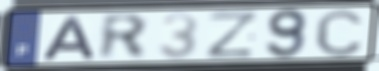3: (156, 10, 201, 62)
9: (263, 7, 309, 61)
A: (38, 15, 99, 62)
C: (313, 7, 366, 59)
R: (98, 13, 151, 62)
Z: (204, 10, 260, 61)
